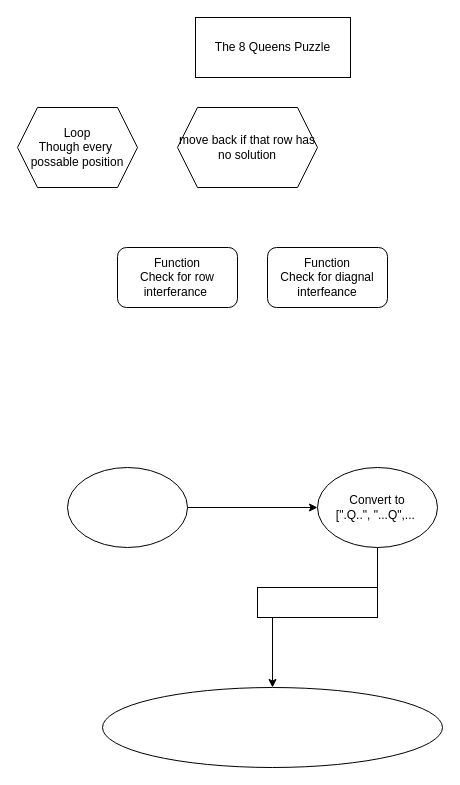
This 460x785 diagram has some shape labels left out. The shapes that lost their labels are listed below. From the top down, each one's centre as x and y in pixels, then its label:
point (127, 507): Answer [1,3,0,2}
point (317, 602): push to the 2d array
point (272, 727): 2D array of strings [ [".Q..", "...Q","Q...",..Q.] ]
